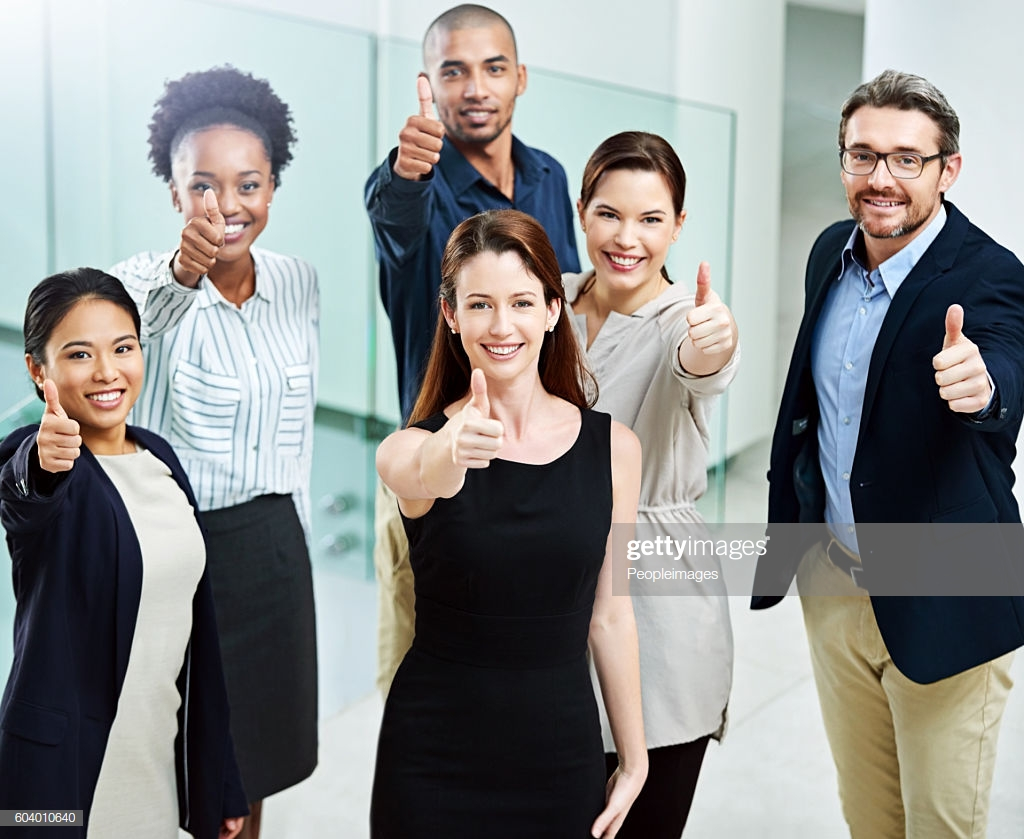thumbsup: (932, 303, 990, 413), (451, 367, 505, 468), (398, 76, 445, 174), (686, 261, 734, 355), (36, 379, 82, 471), (178, 188, 224, 274)
